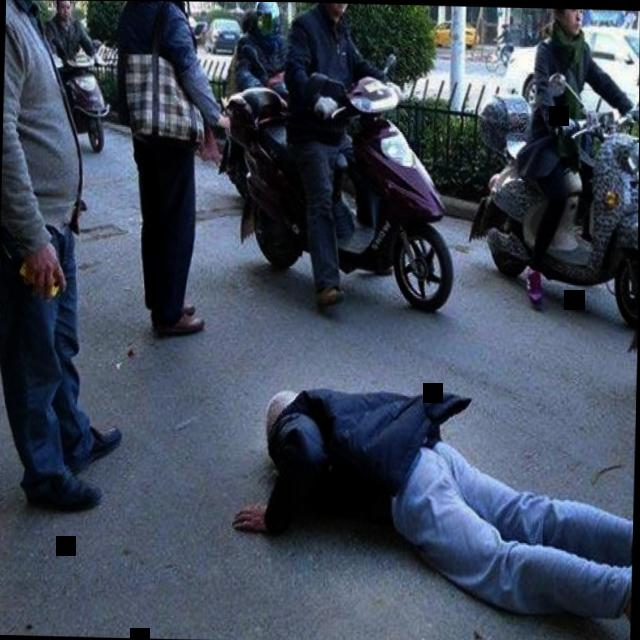Fall-Detected: (214, 363, 637, 640)
